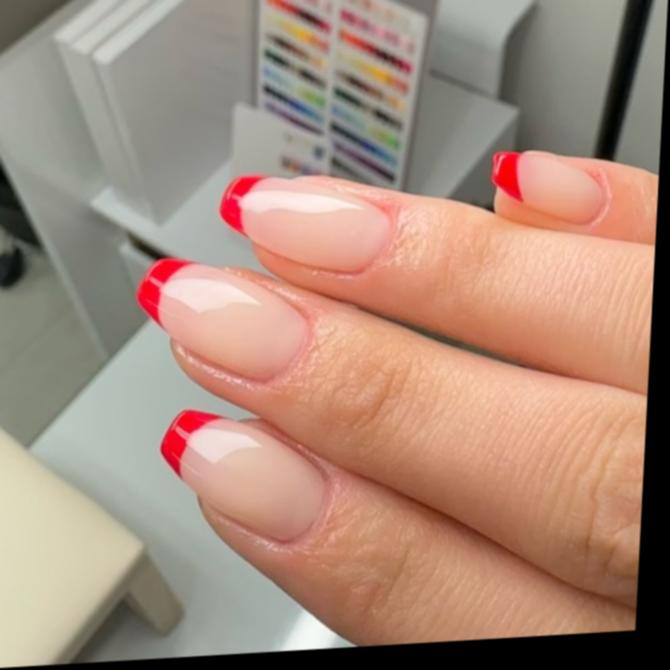nail: (155, 399, 334, 551), (132, 247, 316, 391), (216, 164, 396, 283), (488, 142, 612, 232)
